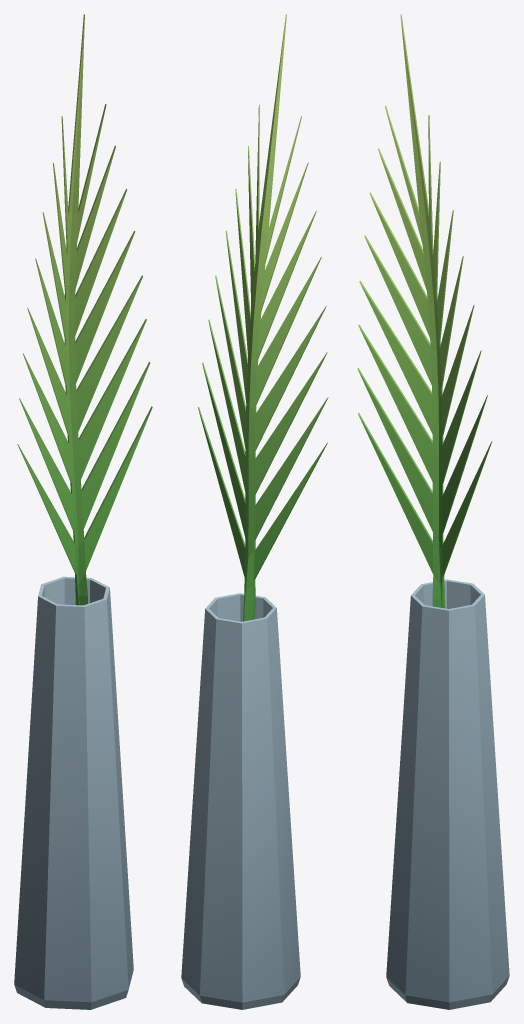
Rendered from Vase_02.fbx.
3 renders of one model, left to right at view 1: azimuth 30°, elevation 25°; view 2: azimuth 150°, elevation 25°; view 3: azimuth 330°, elevation 25°, orthographic. The views are drawn at different scales.
Visible parts, largest first — view 1: Vase_02; view 2: Vase_02; view 3: Vase_02.
Boxes of the visible parts, left/top/right/bottom form: Vase_02: left=14, top=14, right=152, bottom=1009; Vase_02: left=181, top=14, right=328, bottom=1009; Vase_02: left=357, top=14, right=509, bottom=1009.
Size of the model in its own units: 9.74 by 68.87 by 7.59.
